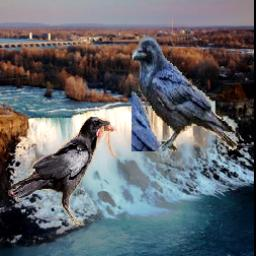Crow: (9, 112, 121, 226), (132, 36, 239, 151)
